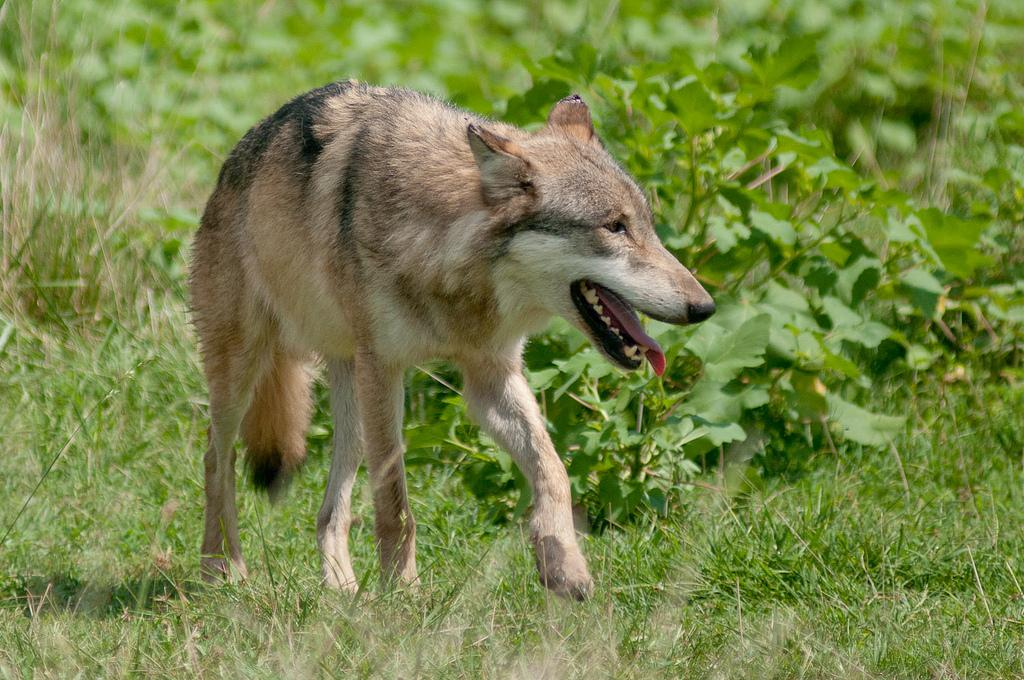Wolf: (189, 79, 723, 602)
